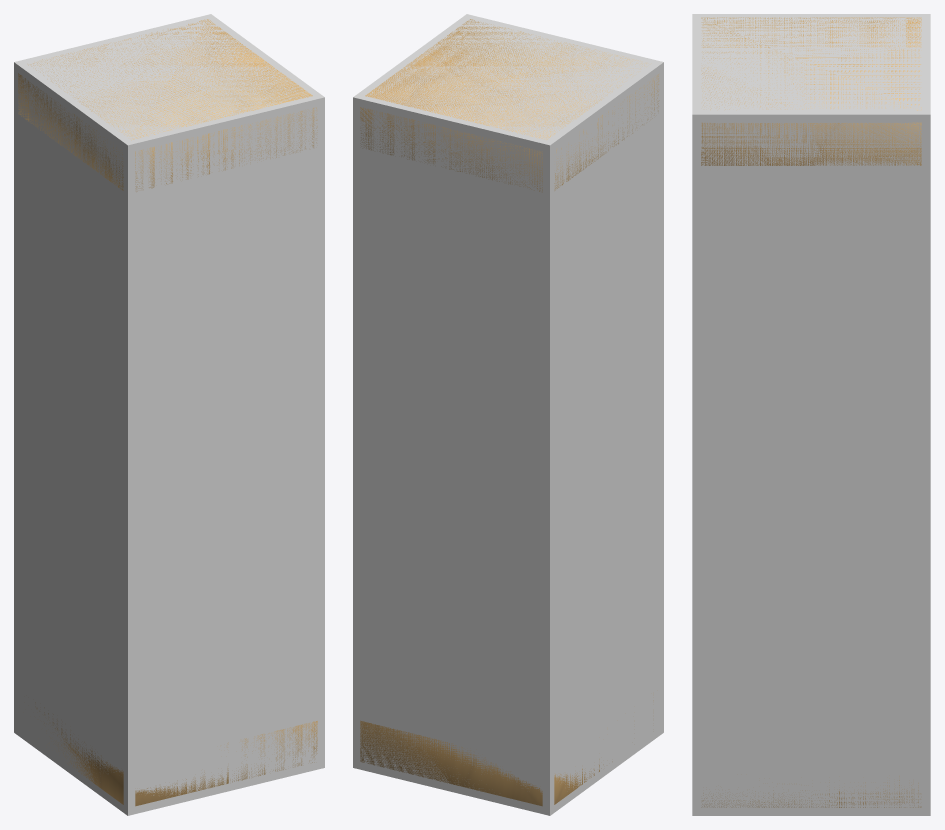
The model's file is SD_P04_Column_Intact.fbx.
The picture shows the model from 3 angles, left to right: view 1: azimuth 30°, elevation 25°; view 2: azimuth 150°, elevation 25°; view 3: azimuth 270°, elevation 25°; orthographic projection. The views are drawn at different scales.
Visible parts, largest first — view 1: COL_Column, Column_LOD0; view 2: COL_Column, Column_LOD0; view 3: COL_Column, Column_LOD0.
Part boxes in pixels (bbox=[...]): COL_Column: bbox=[14, 14, 324, 815]; Column_LOD0: bbox=[18, 19, 317, 806]; COL_Column: bbox=[353, 14, 663, 815]; Column_LOD0: bbox=[360, 19, 659, 806]; COL_Column: bbox=[692, 14, 930, 815]; Column_LOD0: bbox=[701, 17, 921, 807].
Size of what is drawn, in the model's own units: 0.8 by 2.6 by 0.8.
